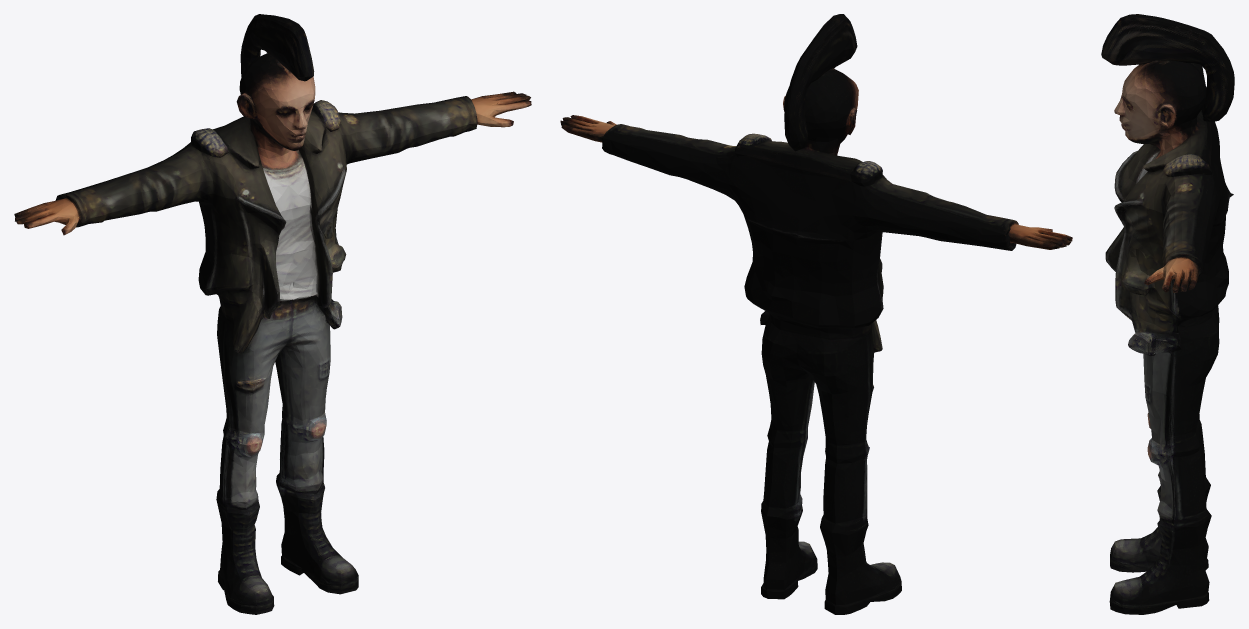
File: punk_t.glb
The picture shows the model from 3 angles, left to right: view 1: azimuth 30°, elevation 25°; view 2: azimuth 150°, elevation 25°; view 3: azimuth 270°, elevation 25°; orthographic projection.
Visible parts, largest first — view 1: world; view 2: world; view 3: world.
Boxes of the visible parts, left/top/right/bottom form: world: left=14, top=14, right=531, bottom=614; world: left=560, top=14, right=1072, bottom=614; world: left=1101, top=14, right=1234, bottom=614.
Size of the model in its own units: 0.9442 by 0.9998 by 0.2124.
1 material, 1 textured.
